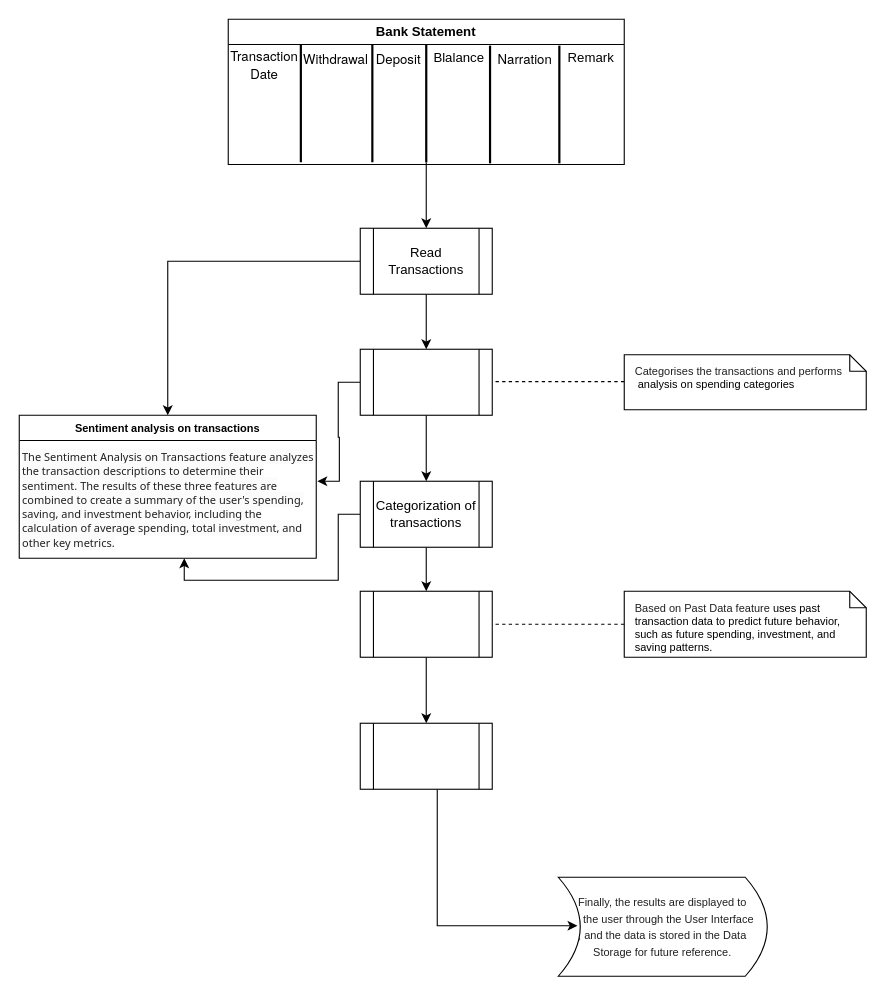
The diagram is 886 pixels wide and 996 high, and some of its shapes have lost their labels. Each missing label, with the centre of its shape:
"Extraction of transaction descriptions from narration" goes at point 425,381.
"Predict Future Behaviour" goes at point 425,623.
"User Interface" goes at point 425,755.
